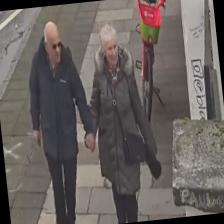person: (81, 20, 165, 224), (21, 18, 102, 224)
